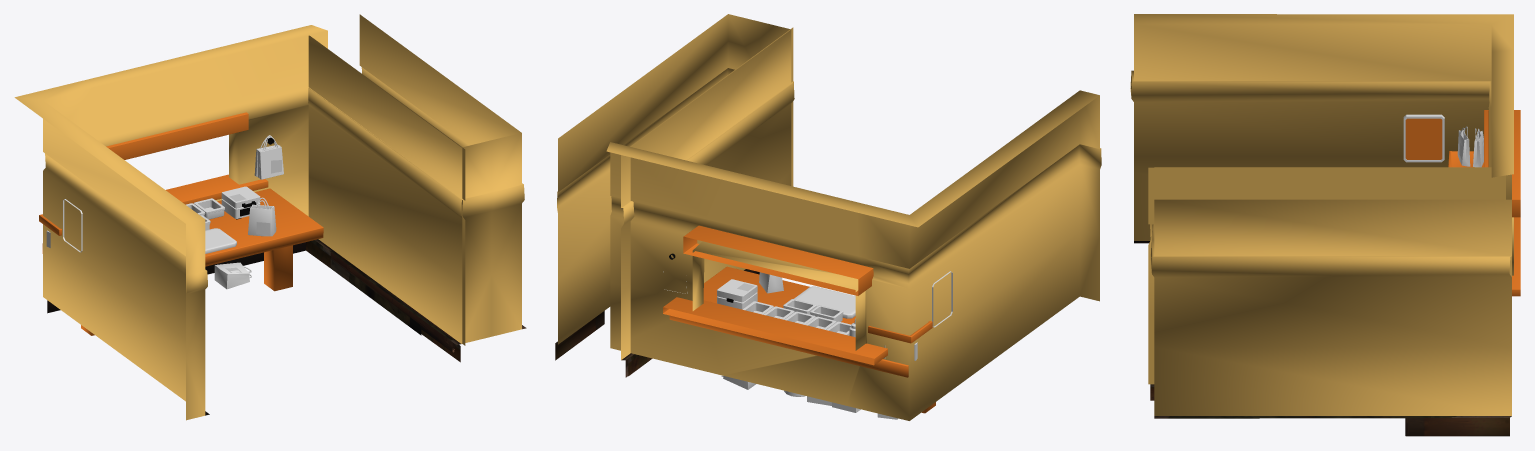
Rendered from main_scene_final.fbx.
The picture shows the model from 3 angles, left to right: view 1: azimuth 30°, elevation 25°; view 2: azimuth 150°, elevation 25°; view 3: azimuth 270°, elevation 25°; orthographic projection. The views are drawn at different scales.
Visible parts, largest first — view 1: Cube.015, Cube.013, Cube.012, Cylinder.004, Cube.022, Cube.023, Cube.019, Cube.009; view 2: Cube.015, Cube.013, Cube.009, Cube.012, Cube.022, Cube.019; view 3: Cube.015, Cube.012, Cube.017, Cube.013, Cube.032.
Part boxes in pixels (x1=…): Cube.015: x1=14, y1=14, x2=526, y2=420; Cube.013: x1=39, y1=112, x2=323, y2=335; Cube.012: x1=306, y1=35, x2=465, y2=362; Cylinder.004: x1=254, y1=135, x2=283, y2=179; Cube.022: x1=221, y1=186, x2=260, y2=219; Cube.023: x1=248, y1=197, x2=276, y2=236; Cube.019: x1=214, y1=262, x2=251, y2=289; Cube.009: x1=205, y1=228, x2=236, y2=253; Cube.015: x1=555, y1=14, x2=1101, y2=420; Cube.013: x1=663, y1=225, x2=935, y2=413; Cube.009: x1=794, y1=286, x2=855, y2=318; Cube.012: x1=623, y1=27, x2=794, y2=376; Cube.022: x1=717, y1=279, x2=757, y2=309; Cube.019: x1=721, y1=375, x2=897, y2=419; Cube.015: x1=1130, y1=14, x2=1513, y2=436; Cube.012: x1=1148, y1=167, x2=1505, y2=400; Cube.017: x1=1403, y1=114, x2=1444, y2=162; Cube.013: x1=1448, y1=110, x2=1520, y2=296; Cube.032: x1=1457, y1=126, x2=1470, y2=166.
Size of what is drawn, in the model's own units: 1378 by 802 by 1207.
